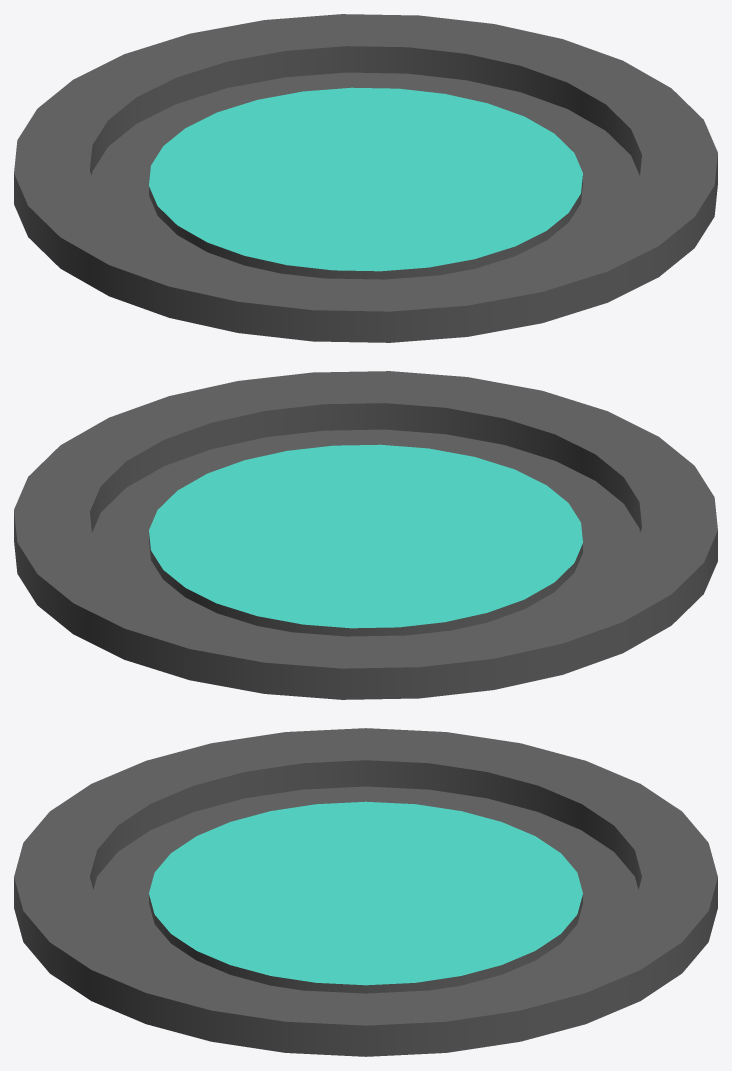
File: Teleport.FBX
3 renders of one model, top to bottom at view 1: azimuth 30°, elevation 25°; view 2: azimuth 150°, elevation 25°; view 3: azimuth 270°, elevation 25°, orthographic.
Parts seen in each view (by area): view 1: Teleport; view 2: Teleport; view 3: Teleport.
Part boxes in pixels (x1,y1,x2,y2): Teleport: [14, 14, 717, 342]; Teleport: [14, 371, 717, 699]; Teleport: [14, 728, 717, 1056].
Bounding box in the file's own units: 1.37 × 0.0671 × 1.37.
